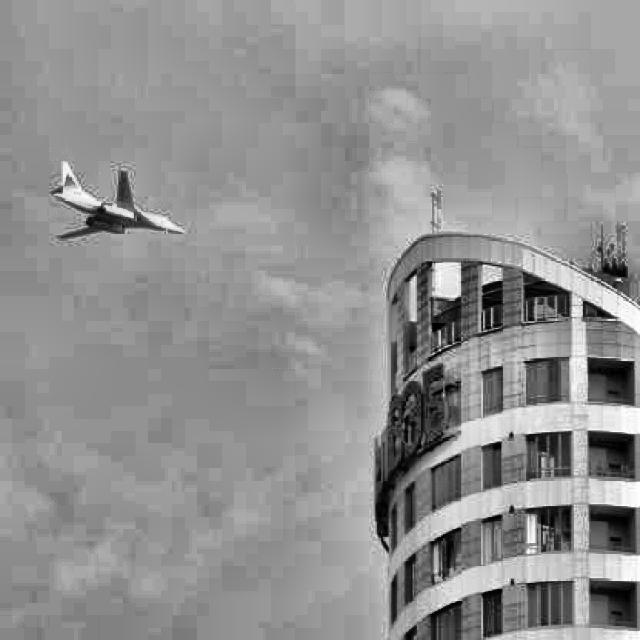Tu160: (49, 160, 186, 240)
